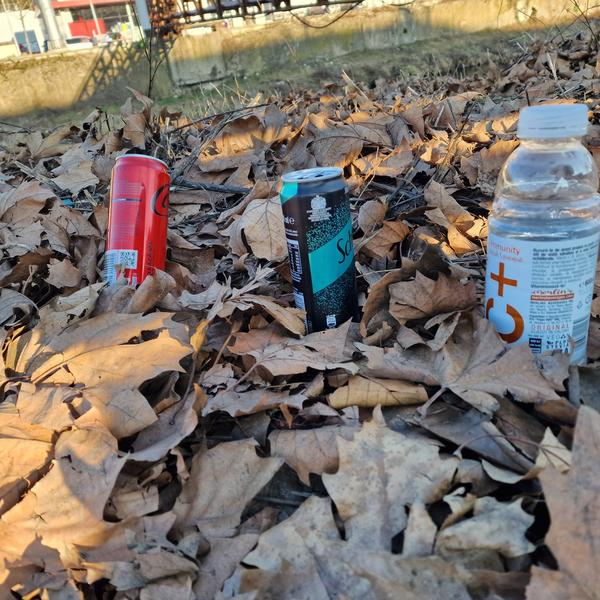can: (277, 164, 363, 337), (105, 153, 173, 288)
plastic_bottle: (484, 101, 600, 386)
